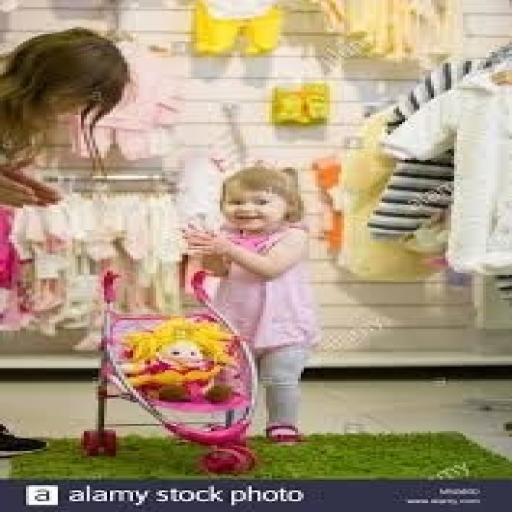clapping: (0, 25, 133, 458), (176, 164, 324, 446)
